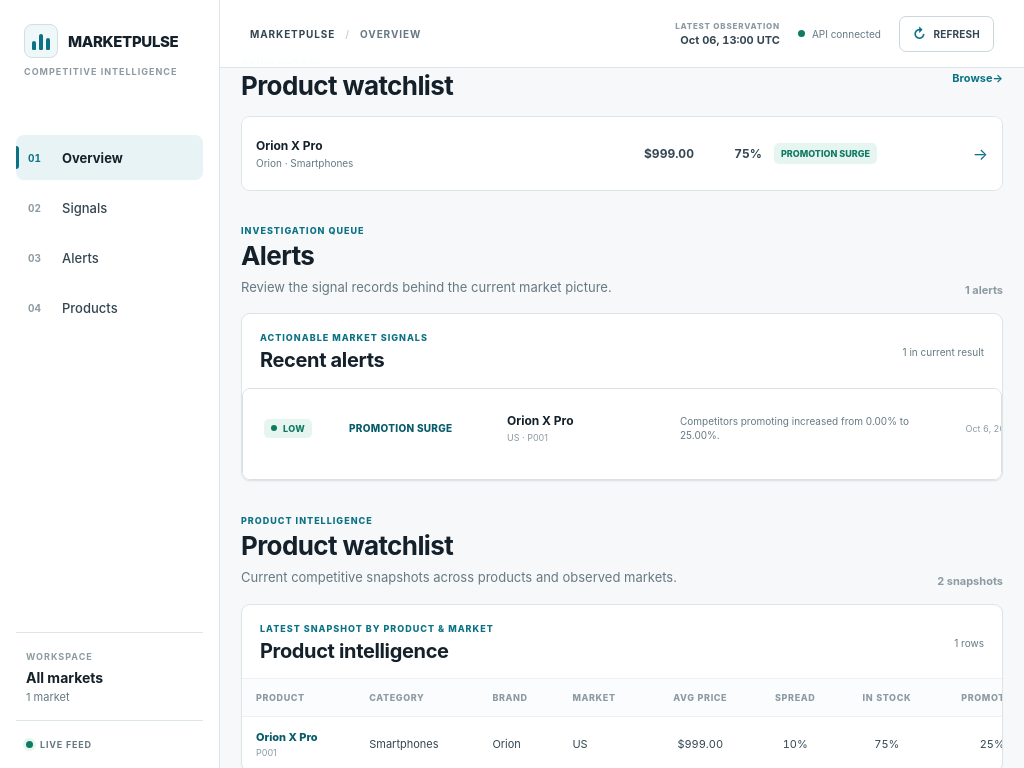
Test: MarketPulse dashboard › opens an alert drawer and closes it from the close control
(page scrolled)
Check: the text "API connected" is shown, box left=798, top=28, right=881, bottom=40
What coordinates should you click on to do the following:
click the button with aria-label "Open LOW PROMOTION SURGE alert for Orion X Pro"
I would click on:
 (288, 428)
Its box is left=255, top=389, right=989, bottom=467.
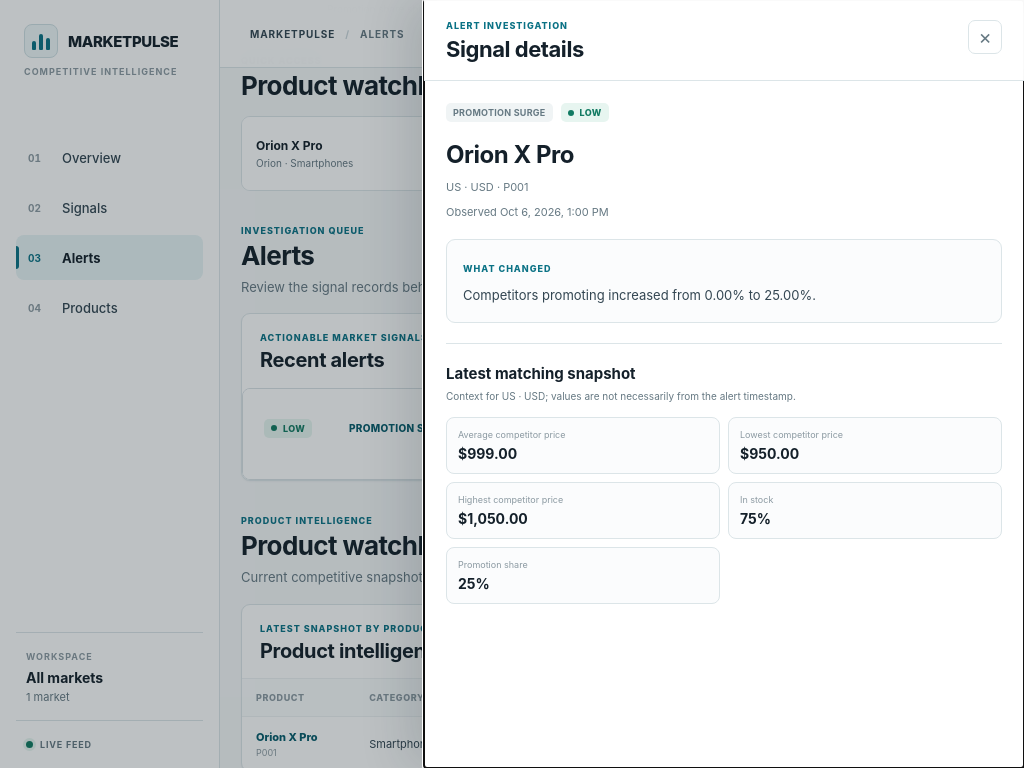
Check: the dialog is shown, box left=424, top=0, right=1023, bottom=767
Check: the text "What changed" is shown, box left=463, top=263, right=552, bottom=274
Check: the heading "Latest matching snapshot" is shown, box left=446, top=364, right=636, bottom=383
What coordinates should you click on to do the following:
click the button named "Close details"
I would click on:
 (985, 37)
Its box is left=968, top=20, right=1002, bottom=54.
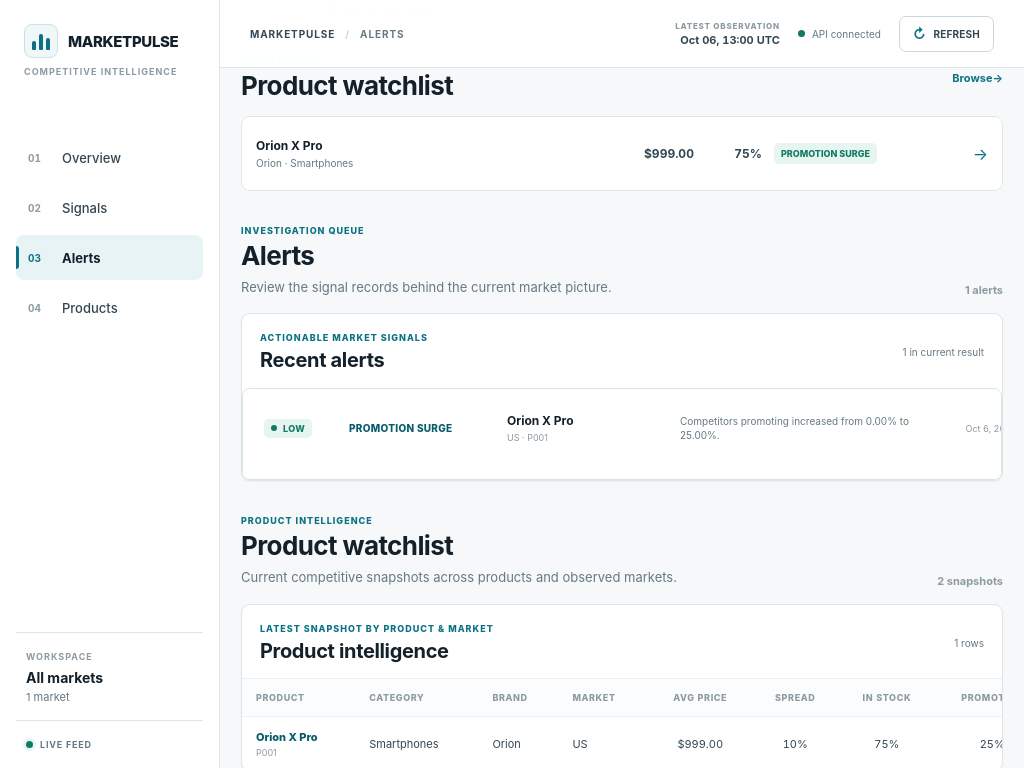
Check: the dialog is gone
